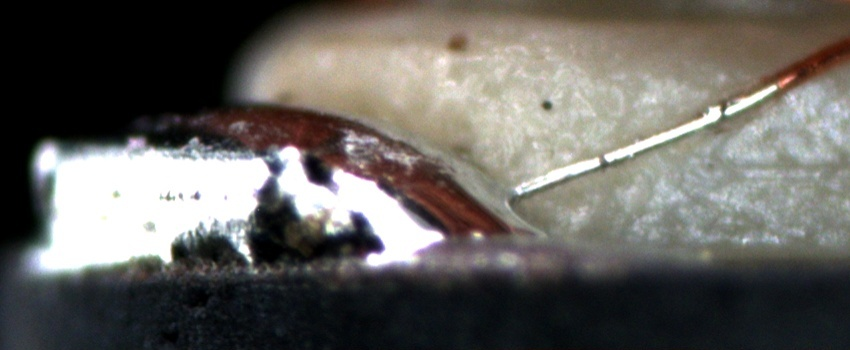DL: (681, 128, 850, 192)
TS: (514, 83, 779, 195)
TTCW: (499, 46, 848, 200)
